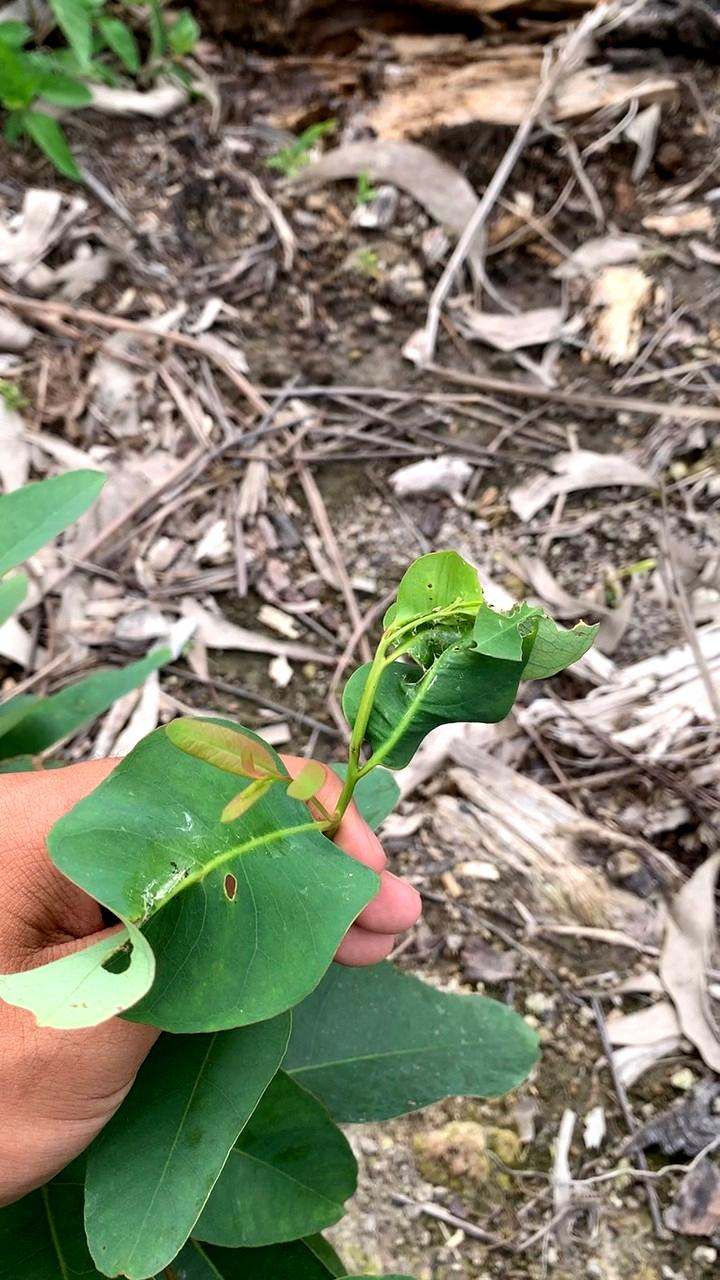Leaf Roller - Leaf: (348, 541, 591, 799)
